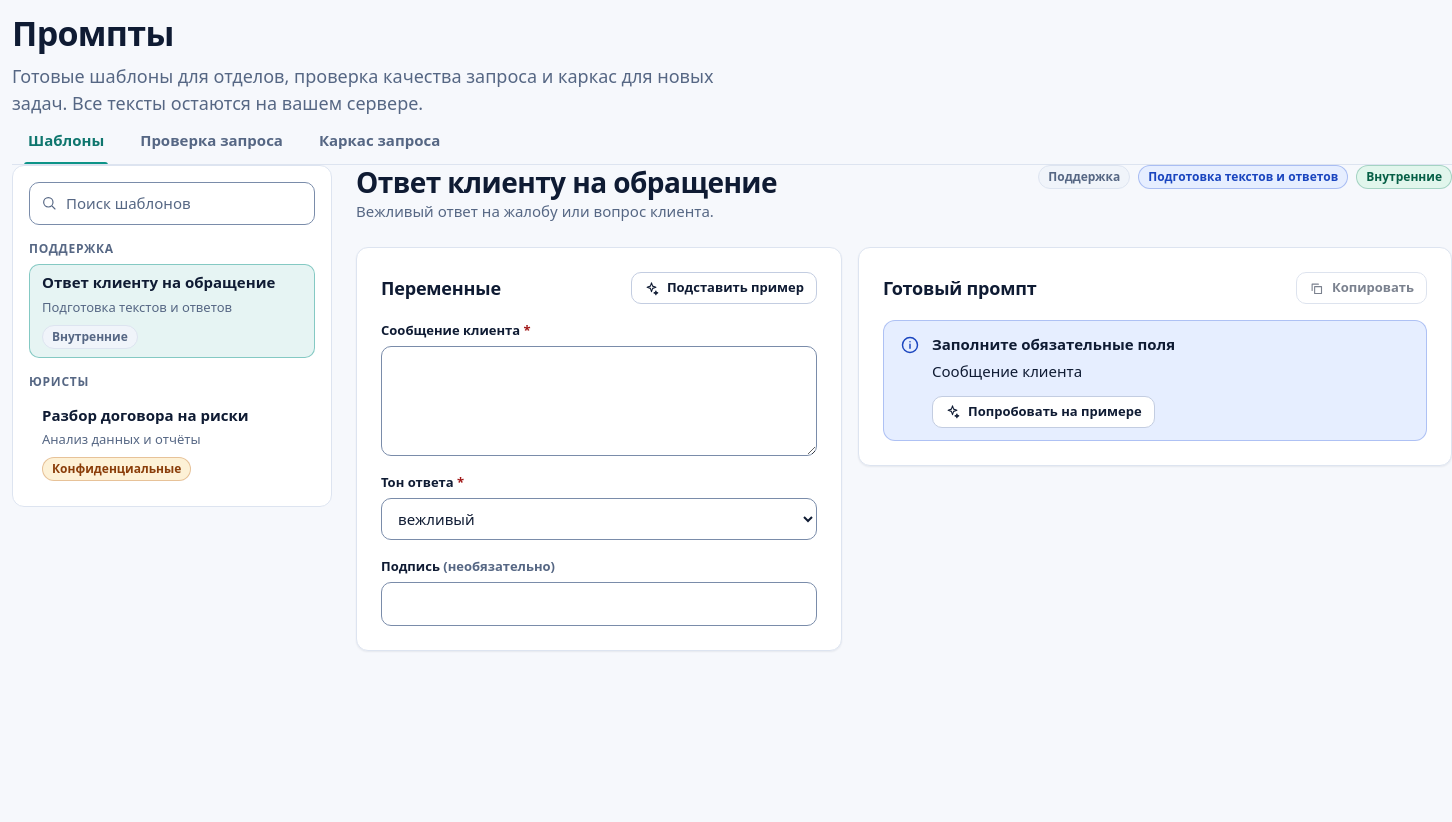
Test case: PromptsPage: шаблоны › предупреждения о персональных данных и найденные типы выводятся рядом с результатом
This screenshot has width=1452, height=822.
Check: the heading "Ответ клиенту на обращение" is shown, box [356,165,777,200]
Click the button "Подставить пример": (724,288) [631,272,817,304]
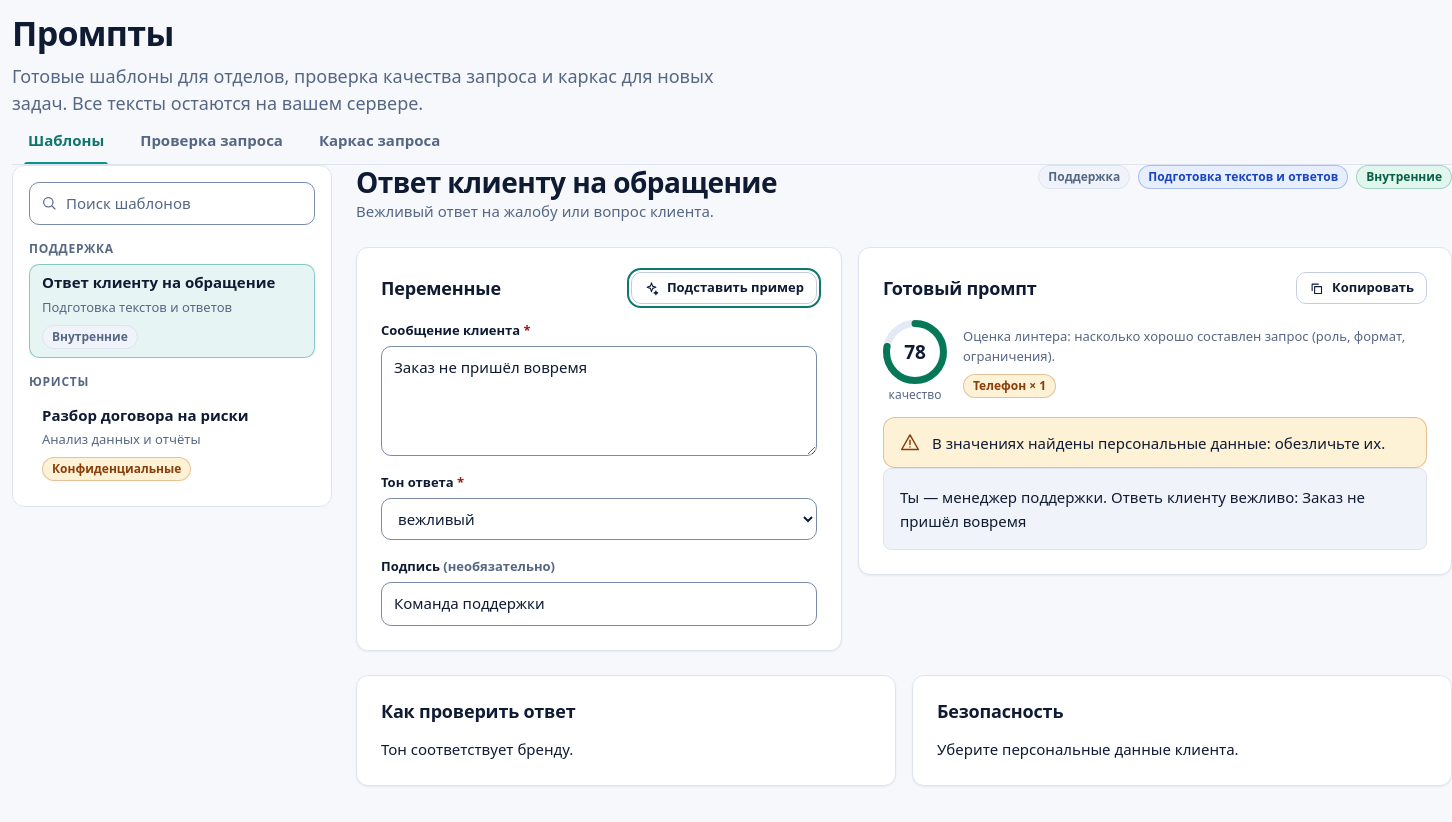
Check: the text "В значениях найдены персональные данные: обезличьте их." is shown, box [932,432,1410,455]
Check: the text "Телефон × 1" is shown, box [963,374,1056,398]
